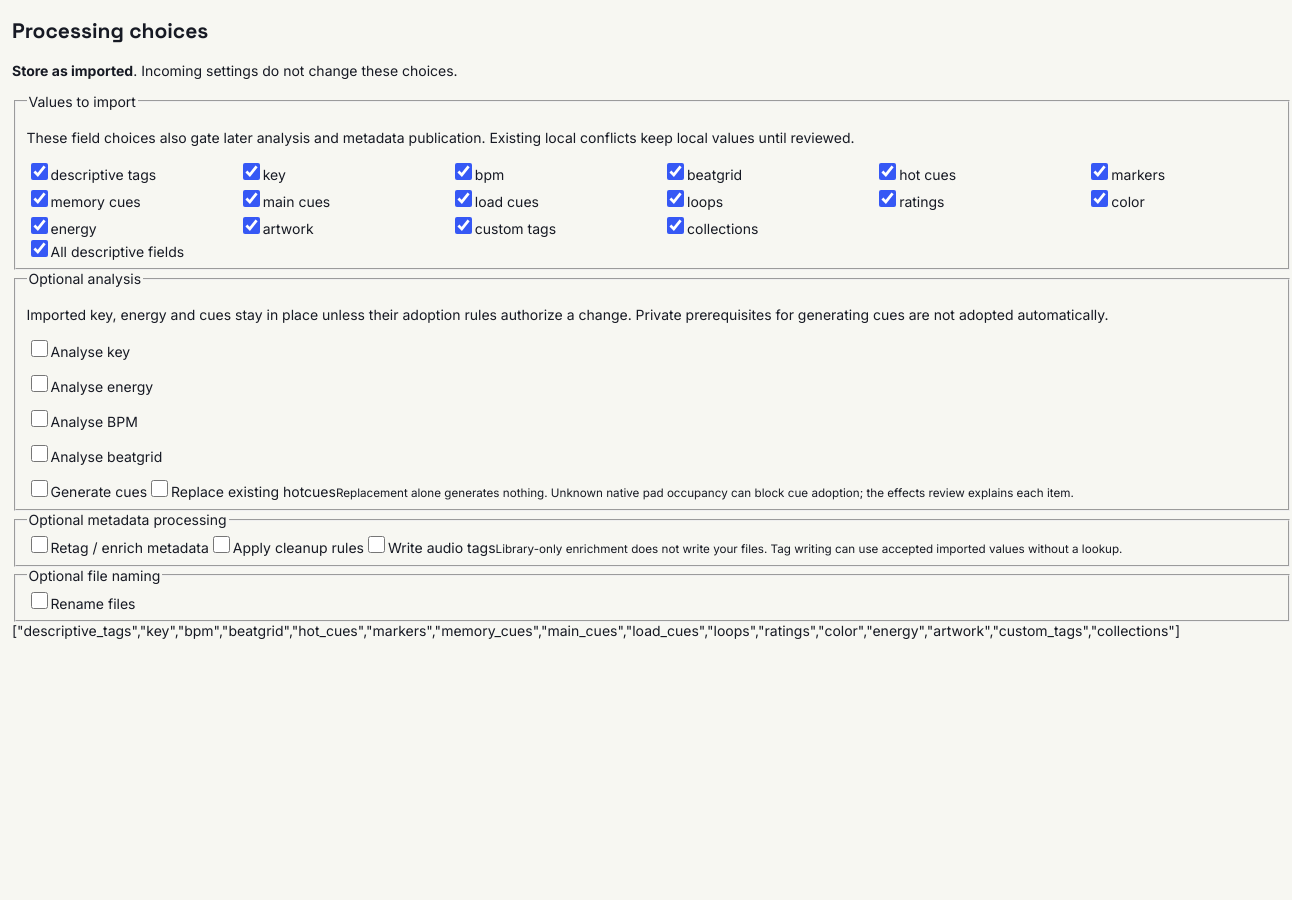
Test: import processing choices › fields_gate_new_and_existing_publication
Click the checkbox named "Import key".
click(251, 171)  # box [243,163,260,180]
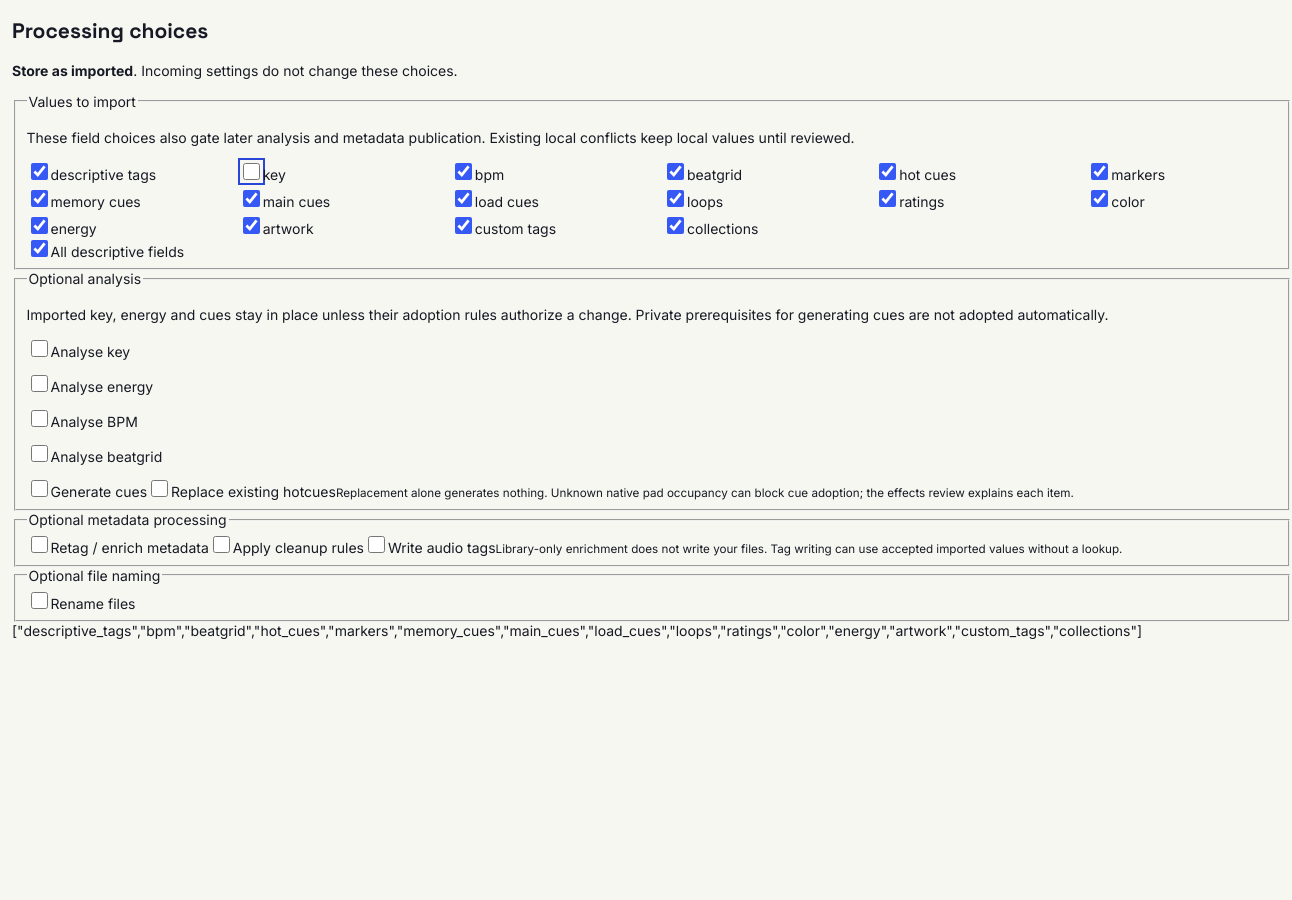
Expected: the text "\"energy\"" is shown, [12,622,1142,639]
Now the text "\"key\"" is gone
